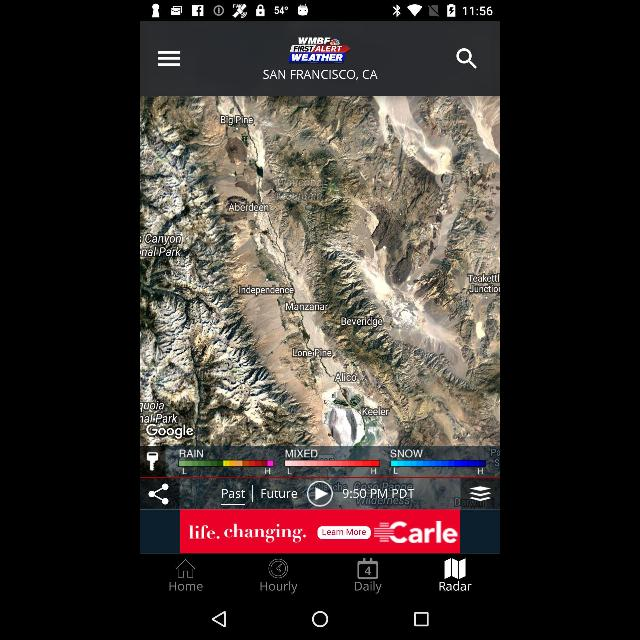icon: (444, 558, 466, 580), (457, 48, 478, 70), (358, 558, 378, 580), (268, 559, 288, 579), (174, 559, 196, 577), (157, 51, 180, 67), (312, 611, 328, 627), (212, 611, 226, 627), (414, 612, 428, 626)
iframe: (180, 510, 460, 554)
map: (140, 97, 500, 510)
panel: (140, 554, 500, 600), (140, 600, 500, 640)
text: (290, 38, 350, 62), (262, 70, 378, 80), (260, 581, 298, 593), (354, 582, 382, 594), (170, 582, 202, 590), (440, 582, 472, 590)
toolbar: (140, 22, 500, 96)
uppertaskbar: (140, 1, 500, 21)
